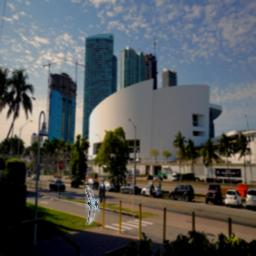Swallow: (85, 185, 101, 225)
